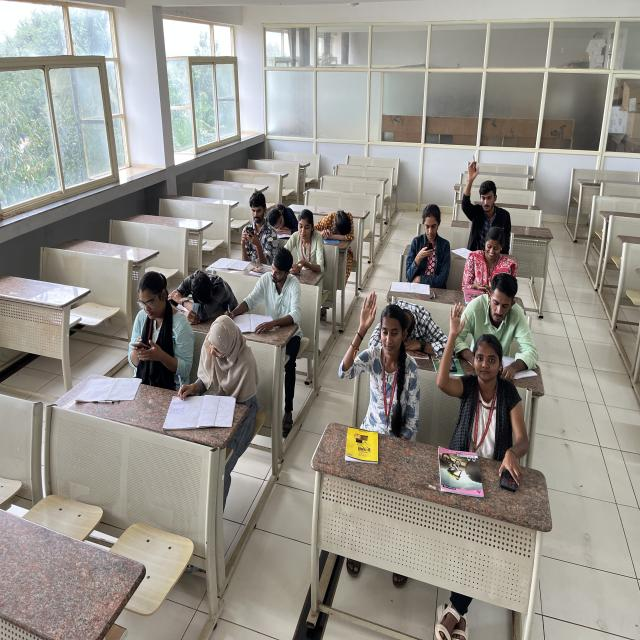Hand Rising: (434, 296, 522, 446), (336, 294, 420, 426), (456, 160, 515, 244)
Sleeping: (387, 296, 448, 358), (167, 267, 232, 319), (317, 204, 361, 242), (267, 199, 298, 236)
Using Phone: (123, 274, 192, 373), (462, 230, 516, 298), (402, 200, 448, 272), (235, 194, 275, 256)
Writing: (174, 316, 262, 424), (224, 255, 296, 331)
